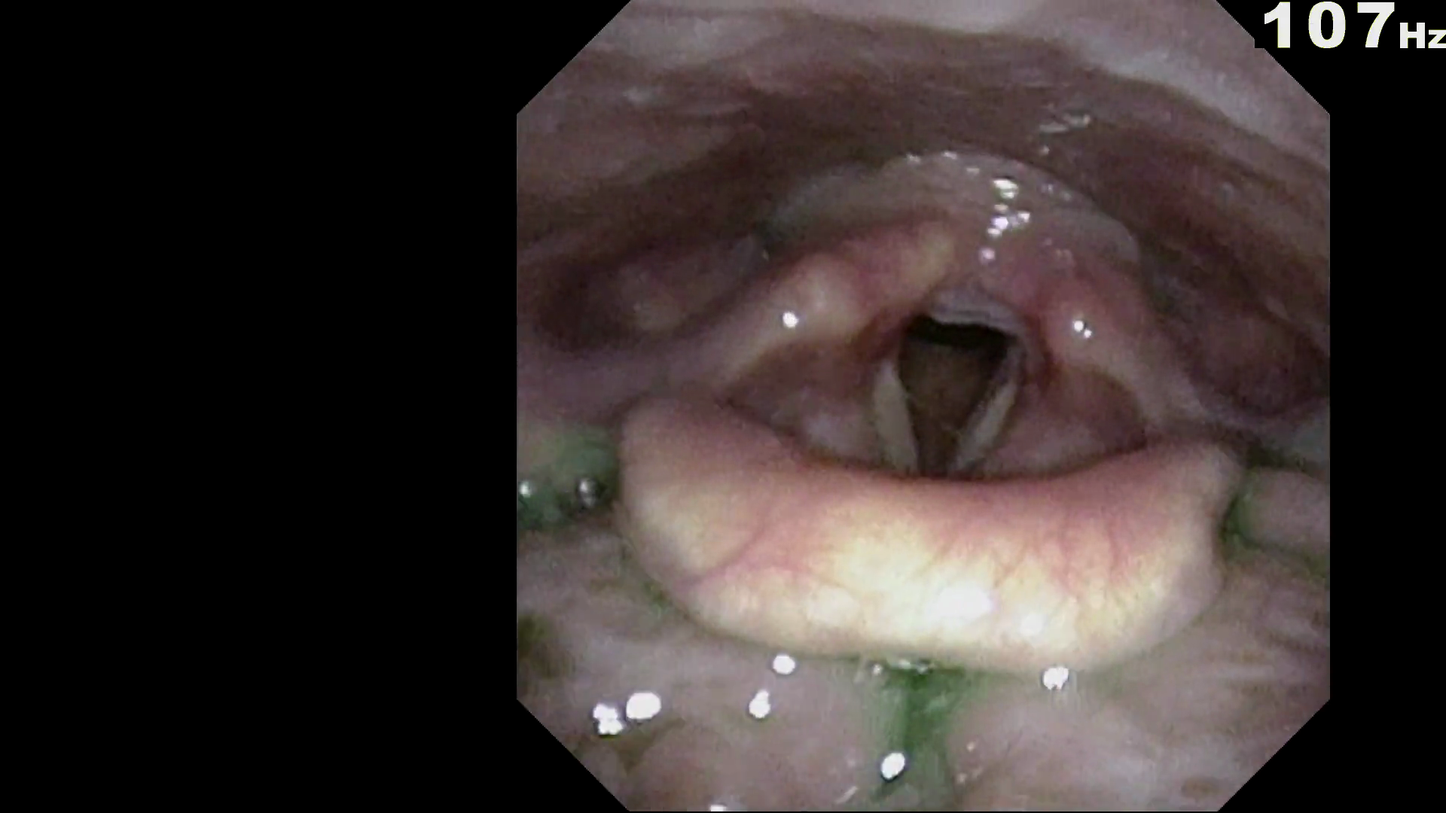epiglottis: (589, 384, 1271, 663), (602, 489, 1226, 761)
trachea: (890, 302, 1018, 482)
